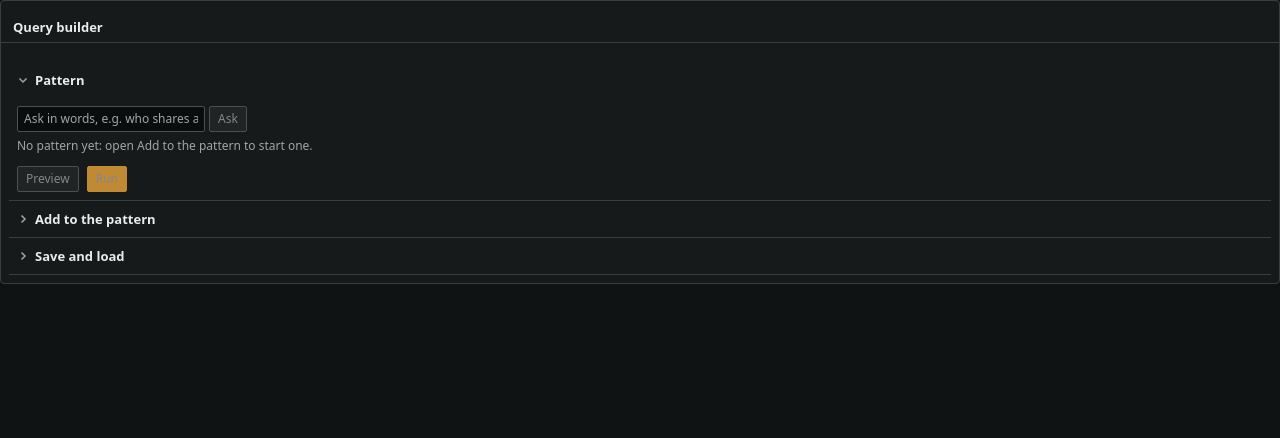
Test: QueryBuilderPanel ask to search › runs the proposed pattern only when Run is pressed, through the existing run route
Type "q" into the field named "Ask to search" at [111, 119], box [17,106,205,132]
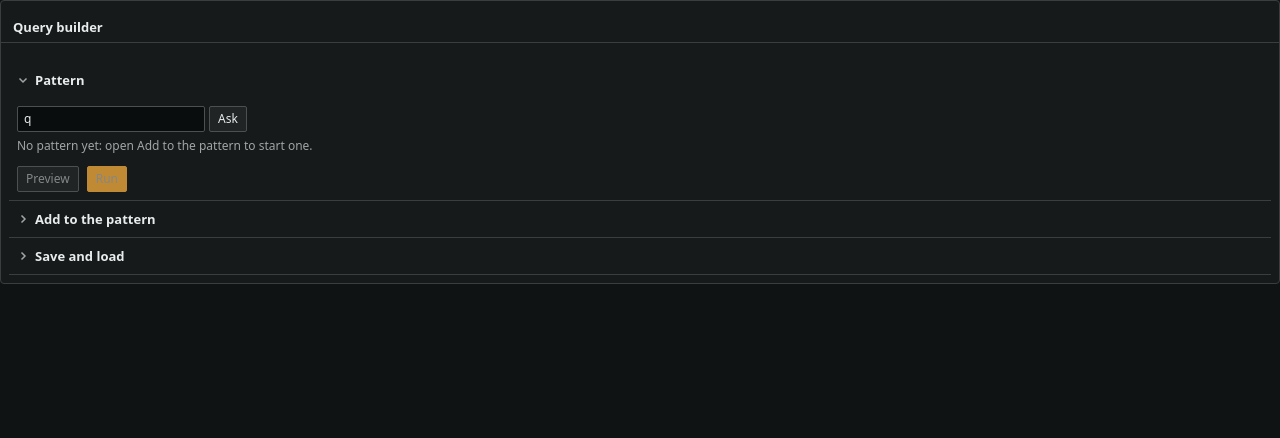
Click the button "Ask" at [228, 119], box [209,106,247,132]
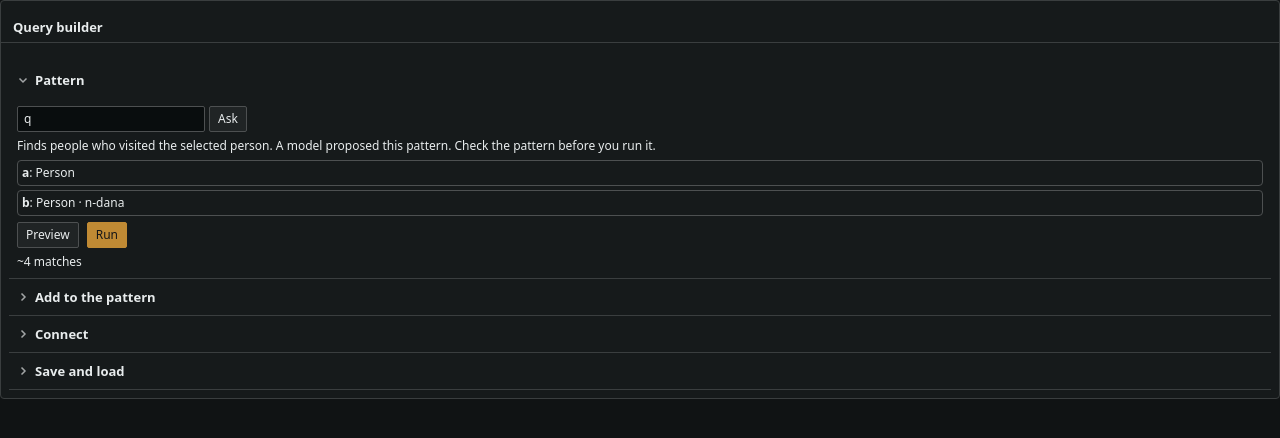
Now the text "~4 matches" is shown, box [17,253,82,270]
Click the button "Run" at [107, 235], box [87,222,127,248]
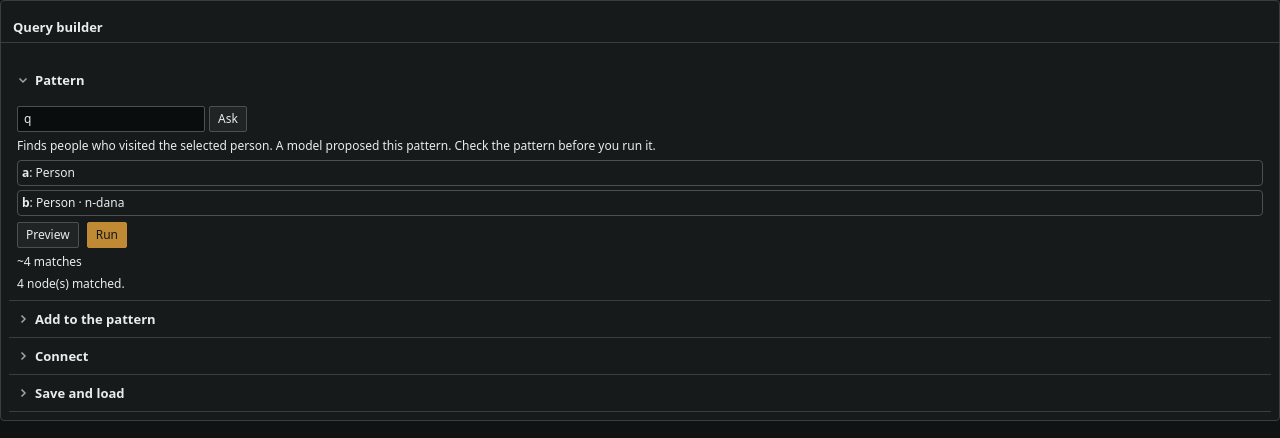
Now the text "4 node(s) matched." is shown, box [17,275,125,292]
